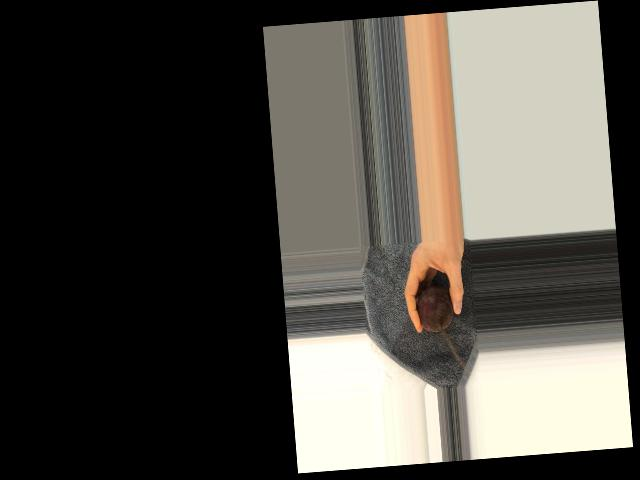beet: (415, 284, 455, 333)
